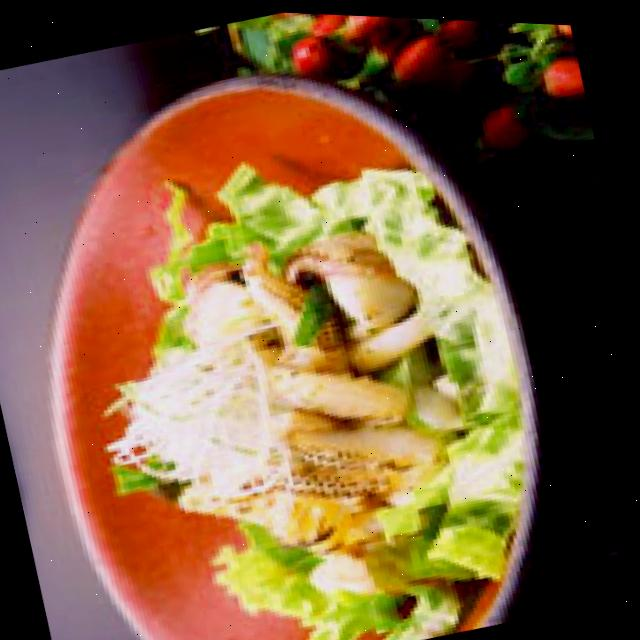寿司卷物: (0, 8, 635, 640)
